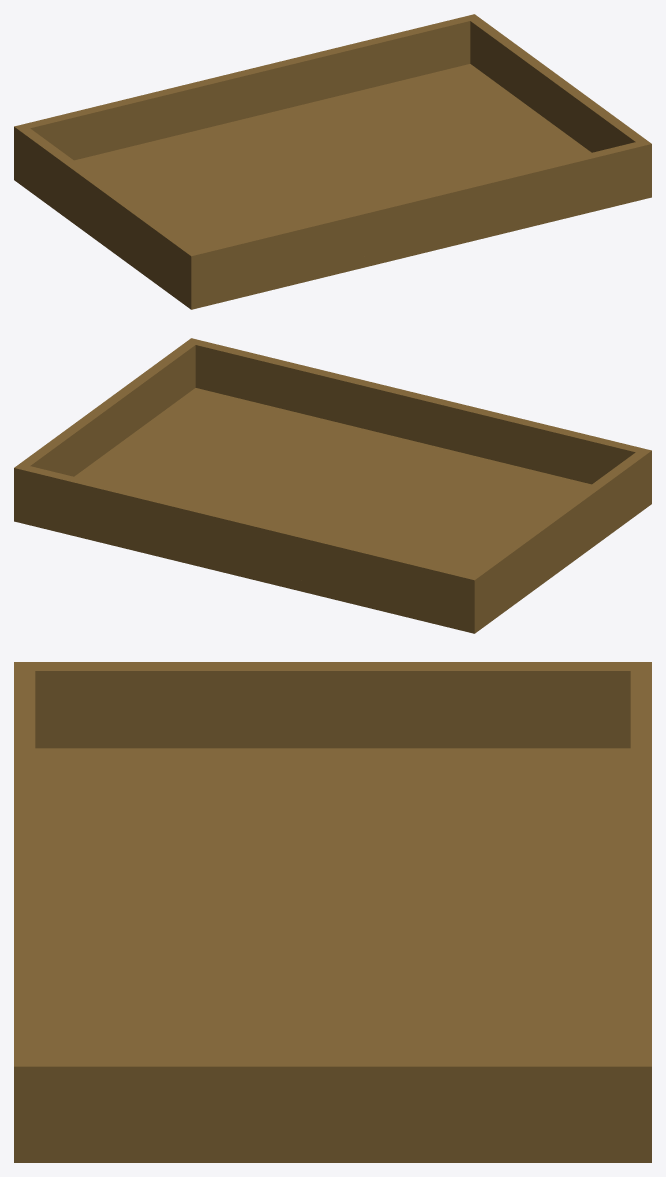
Rendered from BIB-TRY-std.glb.
3 renders of one model, top to bottom at view 1: azimuth 30°, elevation 25°; view 2: azimuth 150°, elevation 25°; view 3: azimuth 270°, elevation 25°, orthographic. The views are drawn at different scales.
Visible parts, largest first — view 1: BIB-TRY-std; view 2: BIB-TRY-std; view 3: BIB-TRY-std.
Boxes of the visible parts, <box> form: BIB-TRY-std: <box>14,14,651,309</box>; BIB-TRY-std: <box>14,338,651,633</box>; BIB-TRY-std: <box>14,662,651,1162</box>.
Size of the model in its own units: 0.45 by 0.05 by 0.3.
